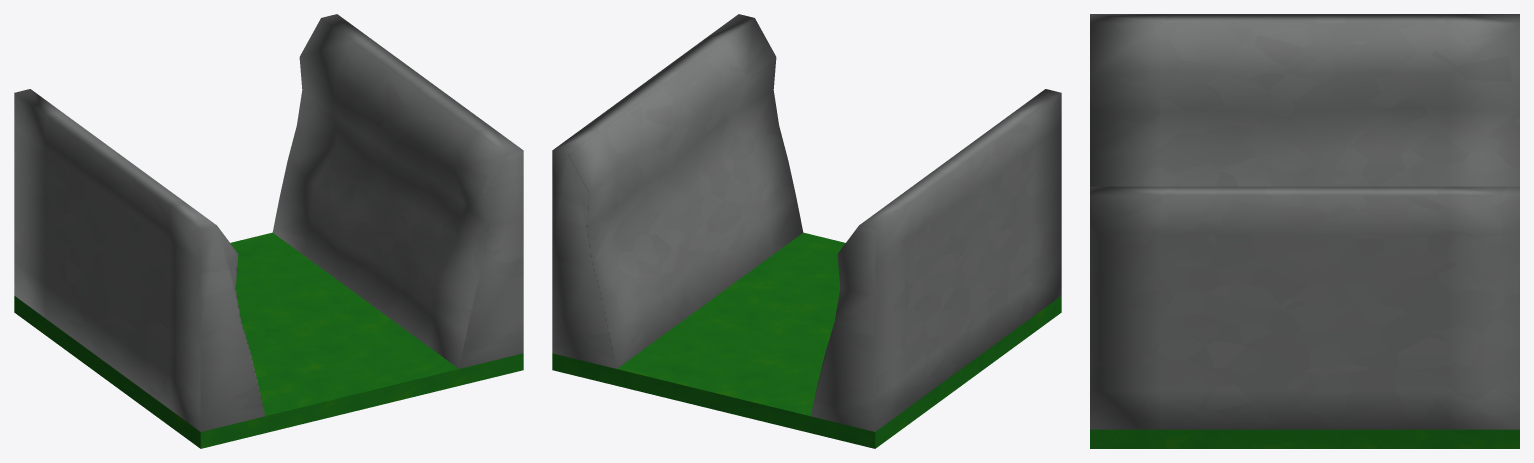
Rendered from corridorRoom.glb.
The picture shows the model from 3 angles, left to right: view 1: azimuth 30°, elevation 25°; view 2: azimuth 150°, elevation 25°; view 3: azimuth 270°, elevation 25°; orthographic projection. The views are drawn at different scales.
Visible parts, largest first — view 1: WallLong.001, WallLong.002, Floor.002; view 2: WallLong.001, WallLong.002, Floor.002; view 3: WallLong.001, WallLong.002, Floor.002.
Part boxes in pixels (box(x1,y1,x2,y2)): WallLong.001: box(272, 14, 523, 368); WallLong.002: box(14, 89, 264, 431); Floor.002: box(14, 232, 523, 448); WallLong.001: box(552, 14, 803, 368); WallLong.002: box(811, 89, 1061, 431); Floor.002: box(552, 232, 1061, 448); WallLong.001: box(1090, 186, 1519, 429); WallLong.002: box(1090, 14, 1519, 186); Floor.002: box(1090, 429, 1519, 448).
Size of the model in its own units: 10 by 6.5 by 10.
Materials: 2 (2 with a texture image).
